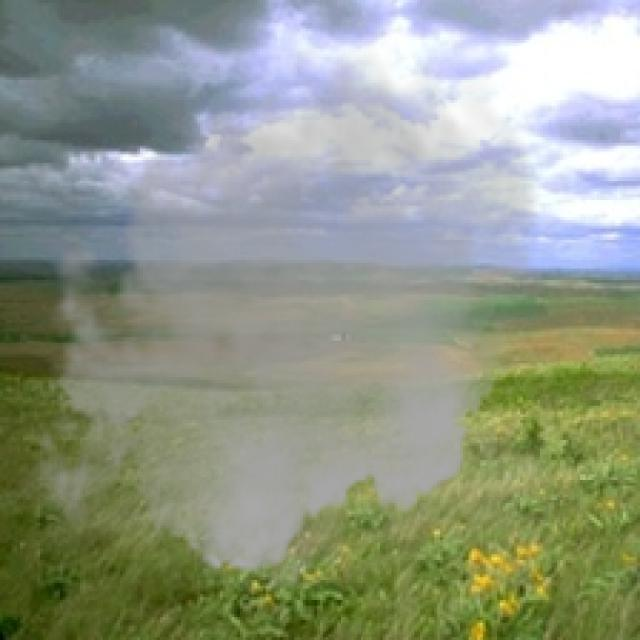Smoke: (17, 31, 552, 588)
